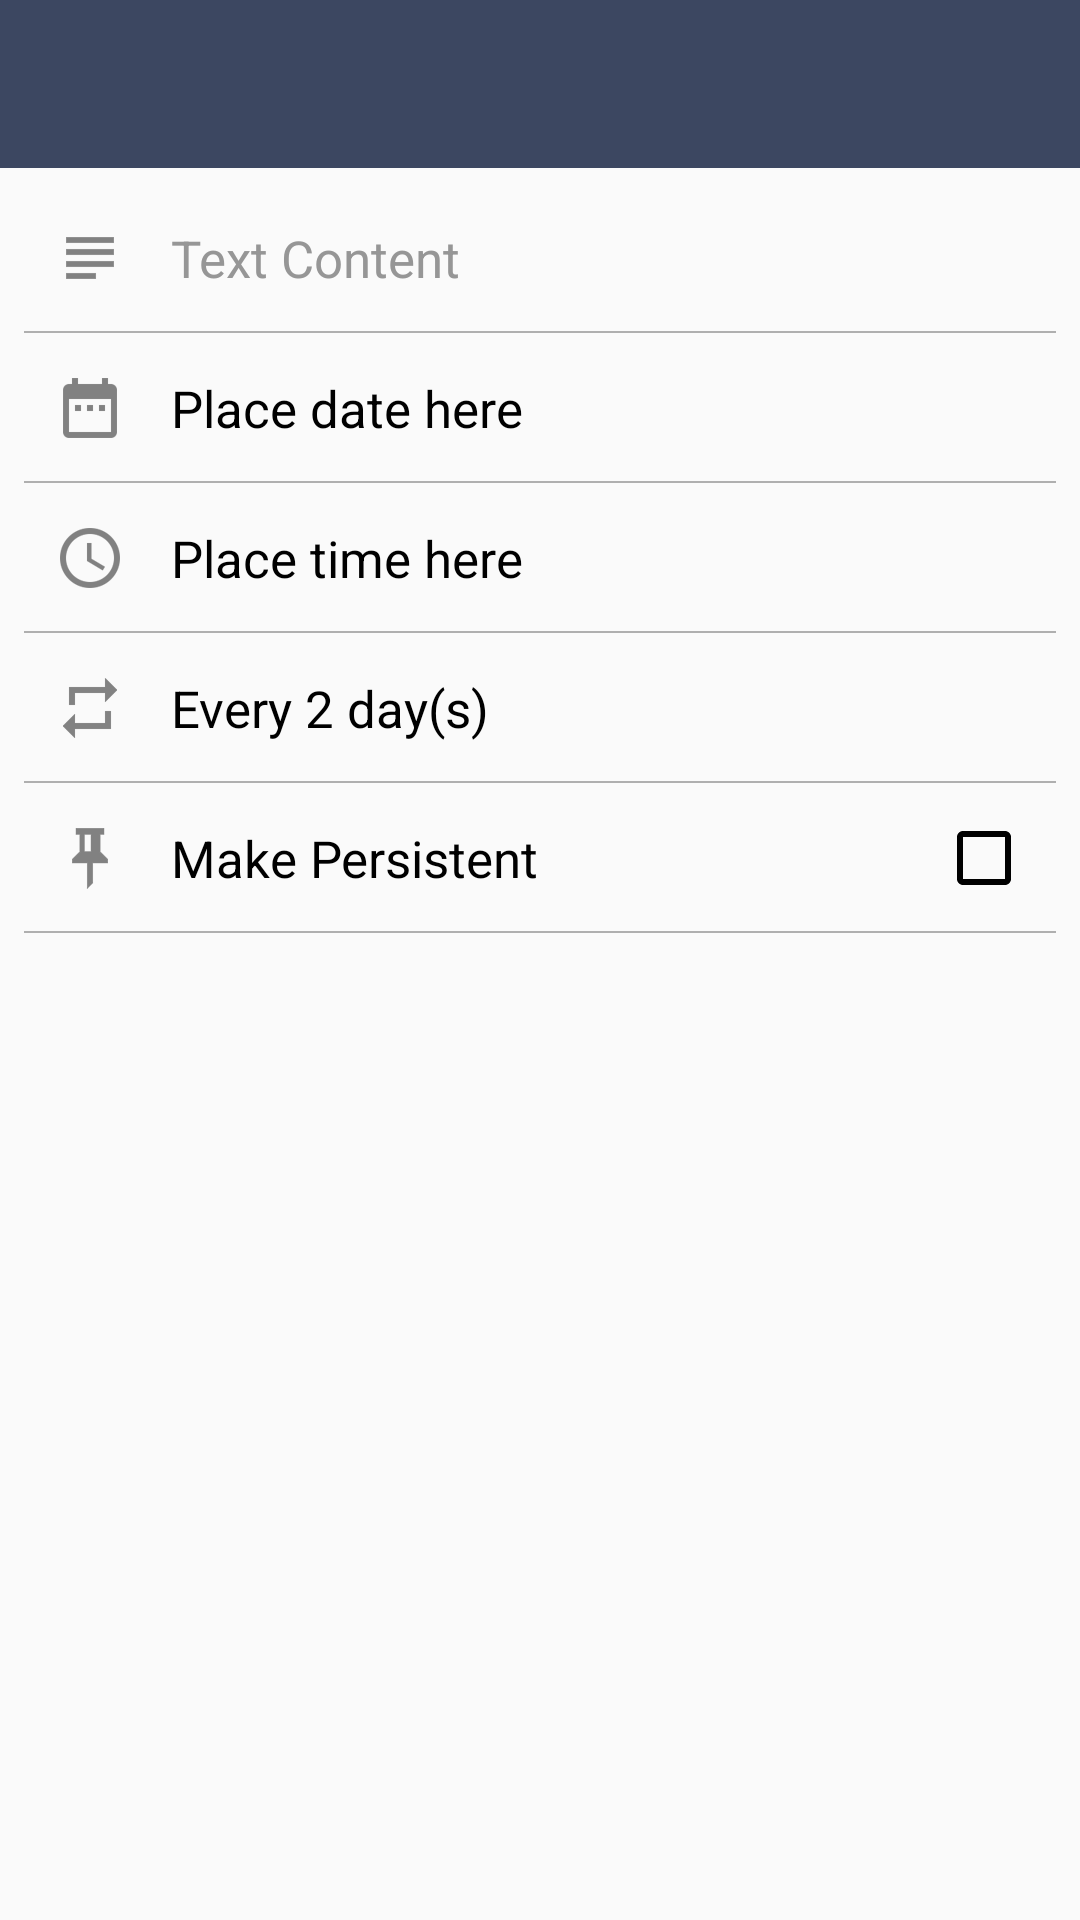

Where icons sit on this 1080 × 1920 app screen, as (x1, y1, x2, y2):
access time: (60, 528, 120, 588)
date range: (63, 378, 117, 438)
pushpin on: (72, 828, 108, 889)
repeat on: (63, 678, 117, 738)
subject: (66, 237, 114, 279)
